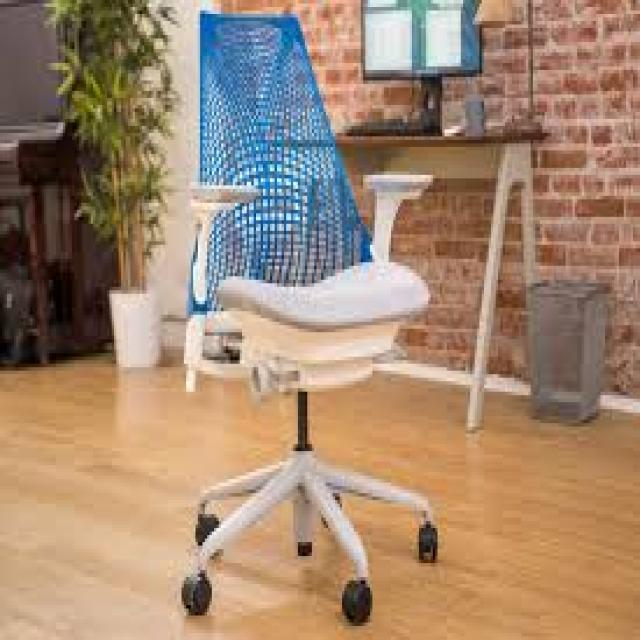chair: (91, 0, 488, 640)
